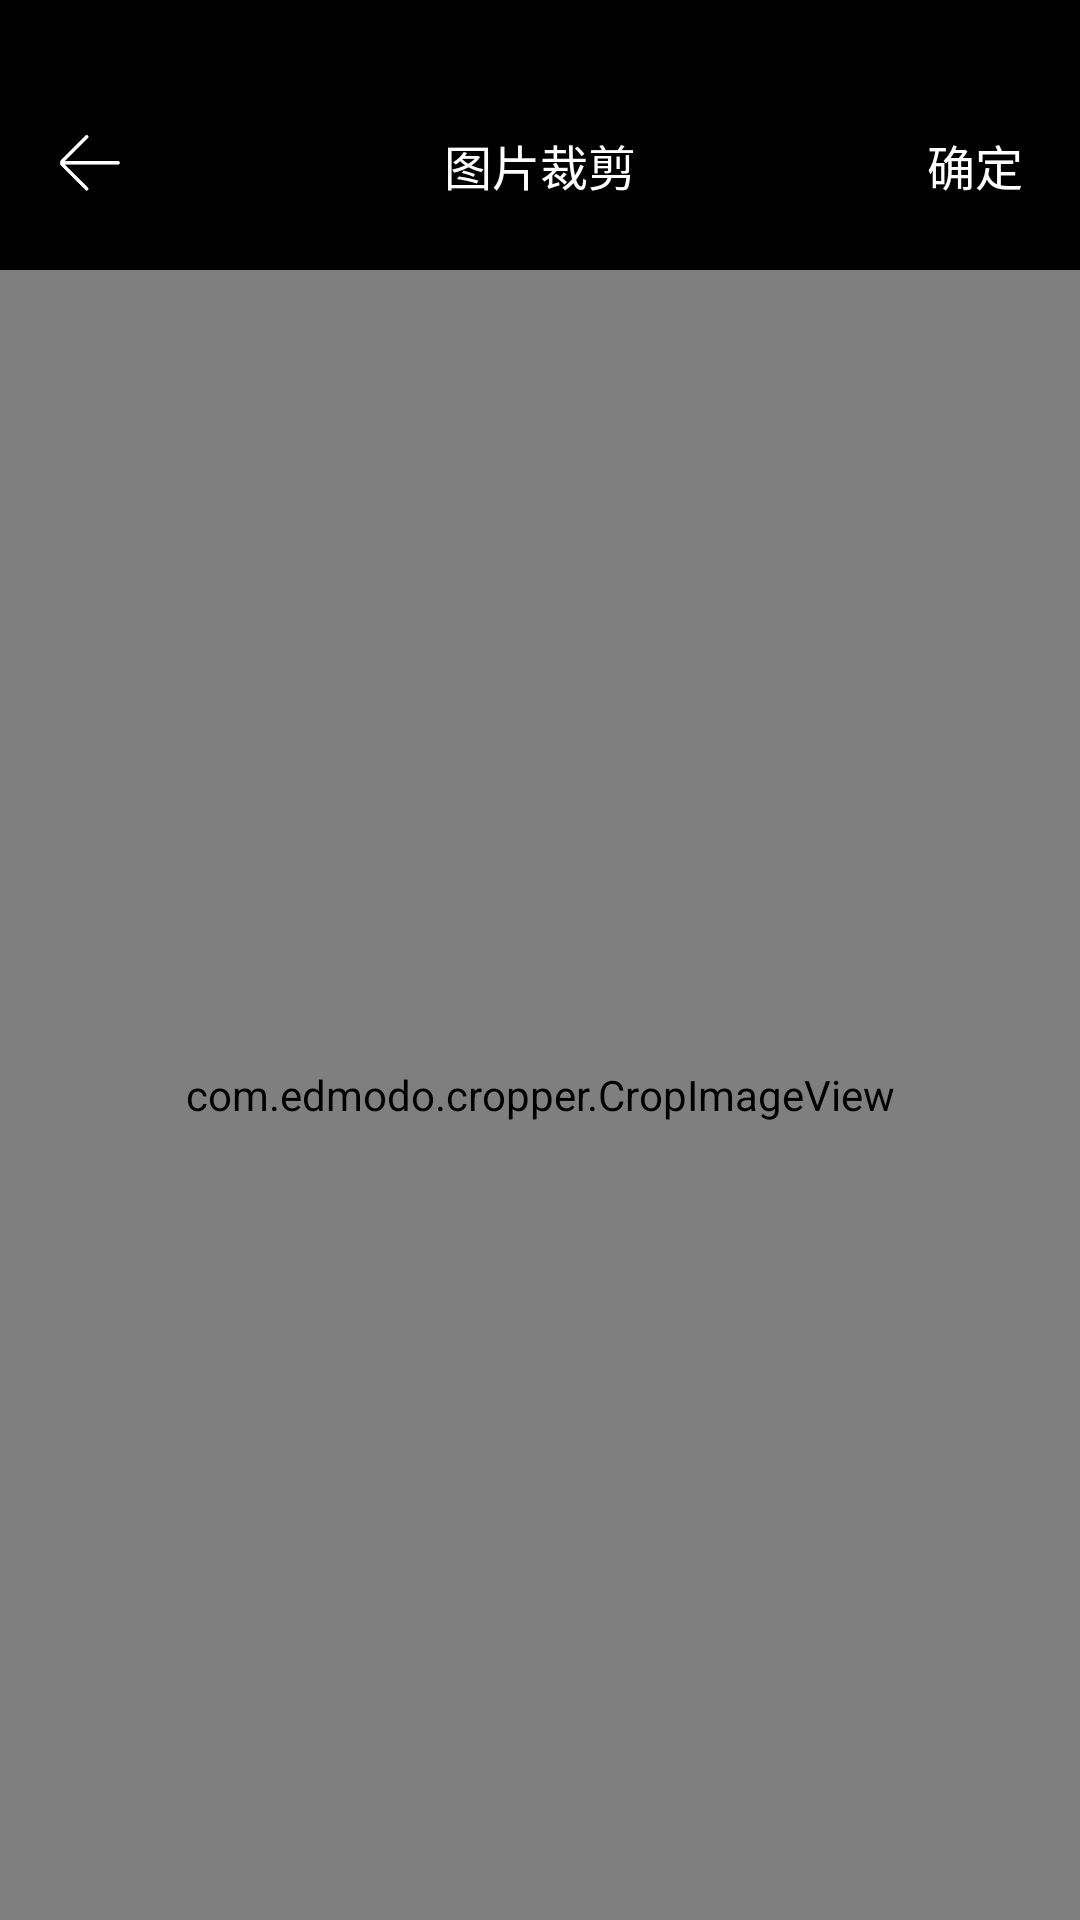

Where icons sit on this 1080 x 1920 app screen, as (x1, y1, x2, y2):
return: (60, 135, 120, 191)
